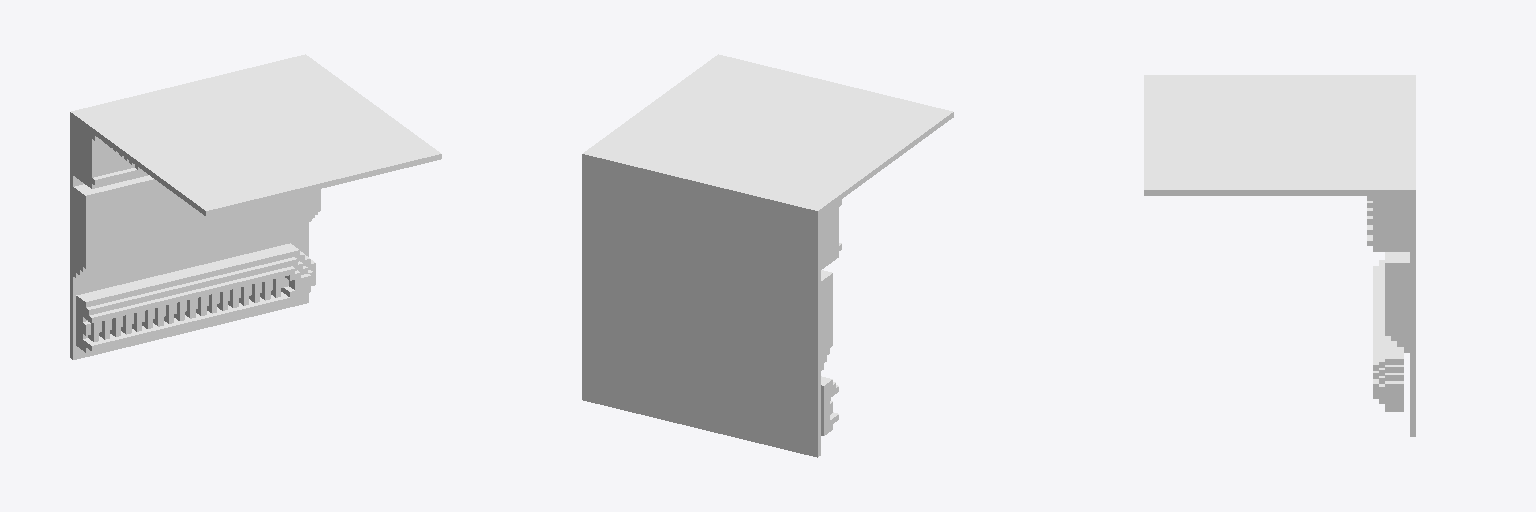
Rendered from mesh_hanger_entrance_top_right_mid.obj.
3 renders of one model, left to right at view 1: azimuth 30°, elevation 25°; view 2: azimuth 150°, elevation 25°; view 3: azimuth 270°, elevation 25°, orthographic.
Visible parts, largest first — view 1: object 1; view 2: object 1; view 3: object 1.
Part boxes in pixels (x1,y1,x2,y2): object 1: (70,54,441,359); object 1: (582,54,953,457); object 1: (1144,75,1415,436).
Size of the model in its own units: 4.4 by 4.4 by 4.4.